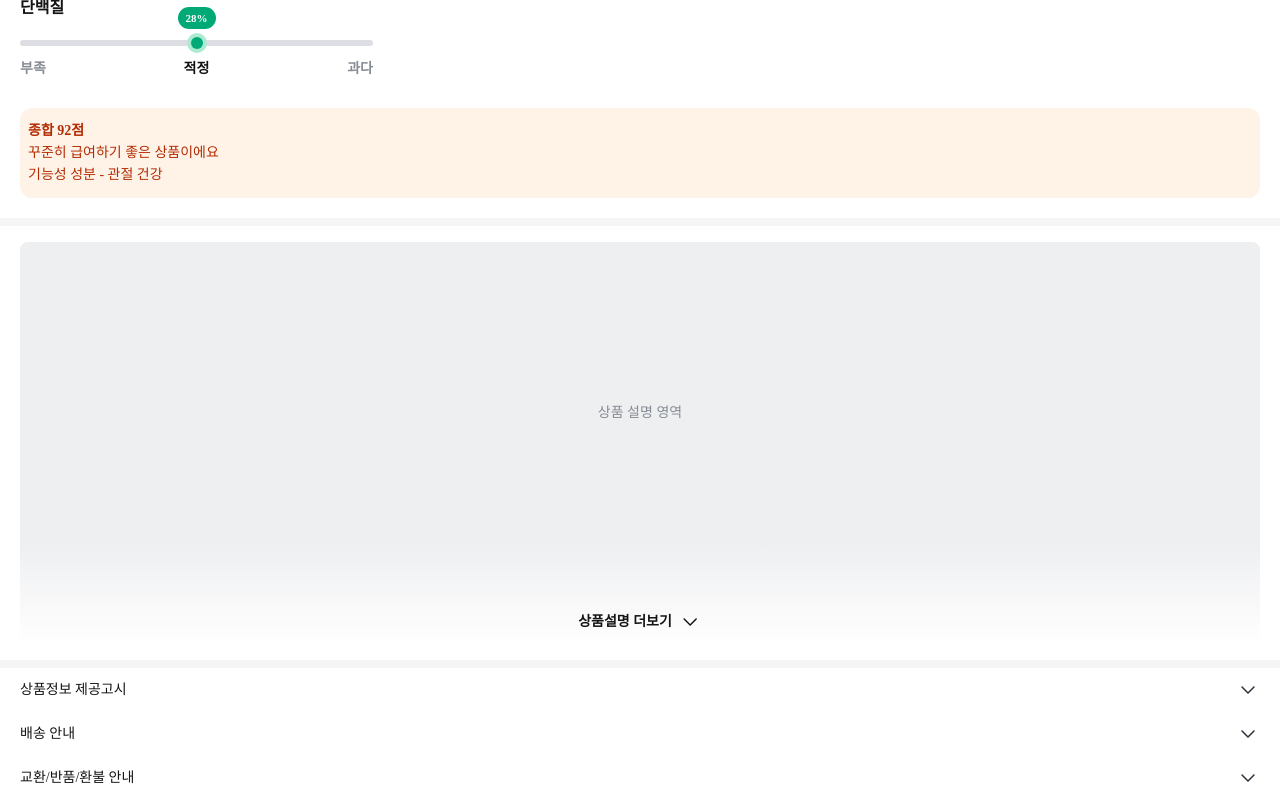
Test: 상품정보 하단 안내 › 배송비 안내에 무료배송도 기본 배송비 줄도 적지 않는다
(page scrolled)
Click the button "배송 안내" at x=48, y=734, box [20,712,1260,756]
(page scrolled)
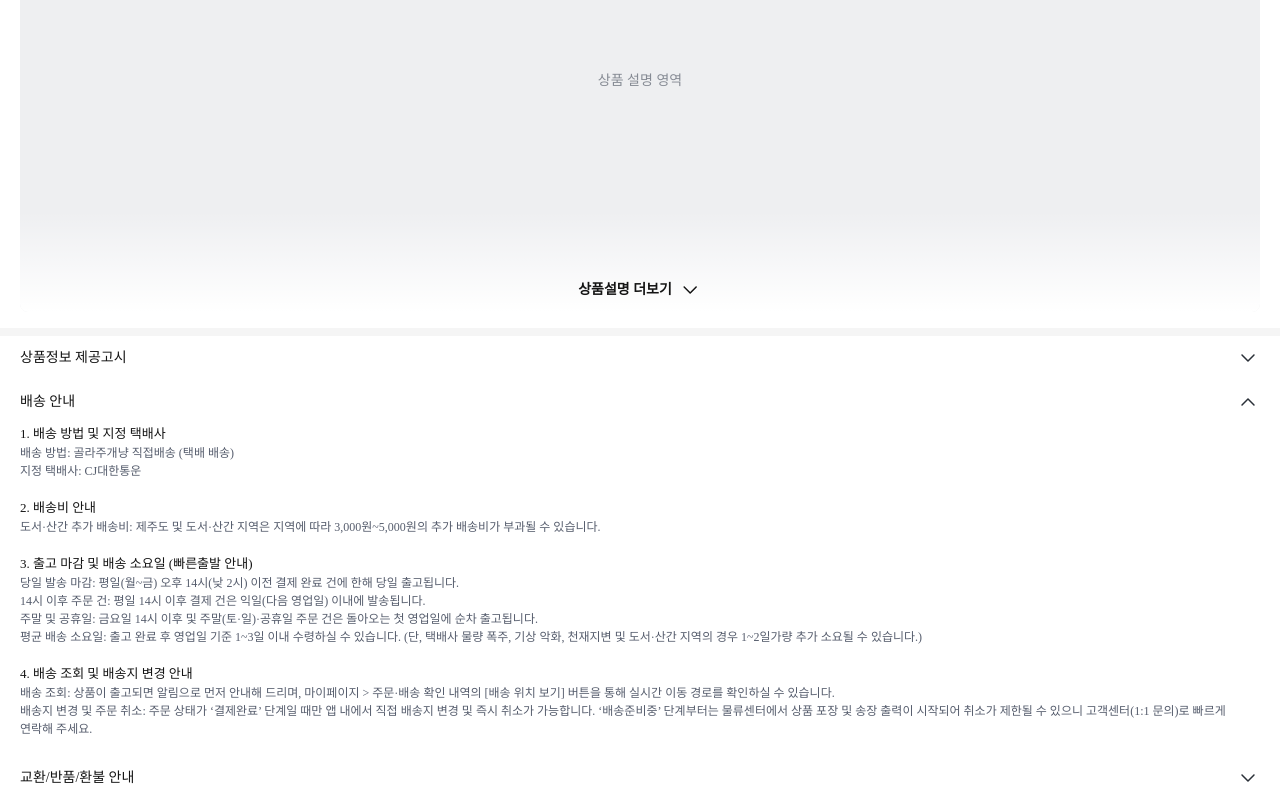
Result: the text "도서·산간 추가 배송비" is shown at [20,520,600,534]
